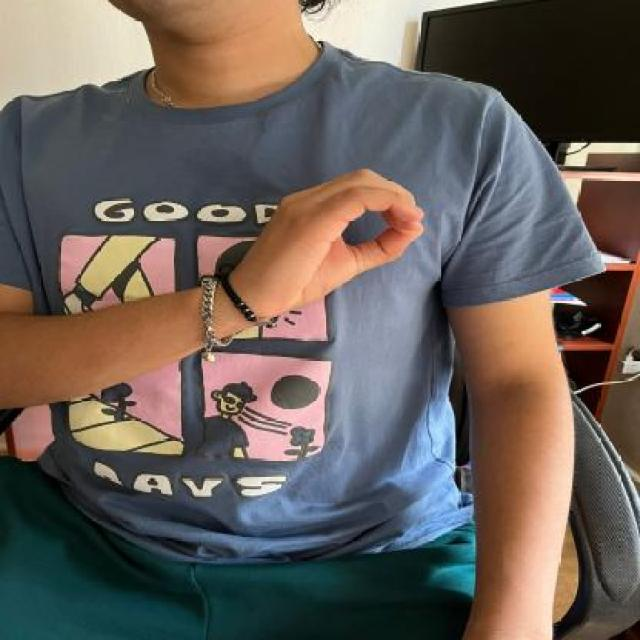O: (237, 157, 429, 303)
